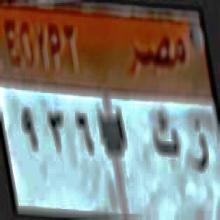3: (47, 105, 66, 160)
6: (75, 105, 95, 163)
9: (20, 102, 39, 163)
alif: (115, 109, 127, 152)
thaa: (151, 107, 180, 166)
zay: (190, 113, 212, 179)
